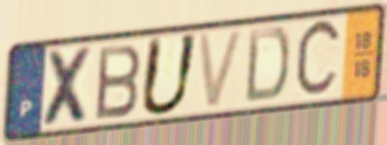B: (94, 42, 144, 123)
C: (292, 14, 344, 104)
D: (243, 25, 292, 106)
U: (137, 31, 202, 120)
V: (194, 26, 248, 114)
X: (40, 44, 96, 130)
